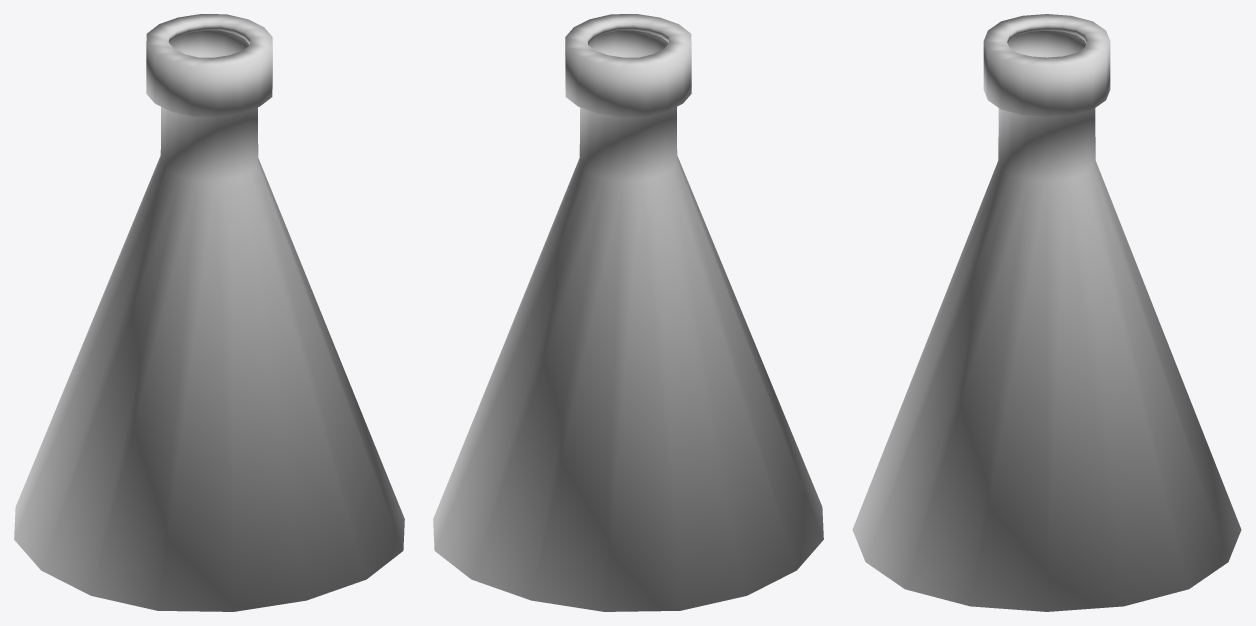
The model's file is flask.glb.
3 views of the same model, side by side, from view 1: azimuth 30°, elevation 25°; view 2: azimuth 150°, elevation 25°; view 3: azimuth 270°, elevation 25° (orthographic).
Parts seen in each view (by area): view 1: Flask; view 2: Flask; view 3: Flask.
Boxes of the visible parts, box(x1,y1,x2,y2) form: Flask: box(14, 14, 404, 611); Flask: box(433, 14, 823, 611); Flask: box(852, 14, 1241, 611).
Size of the model in its own units: 0.4392 by 0.61 by 0.4392.
Materials: 2 (2 with a texture image).
